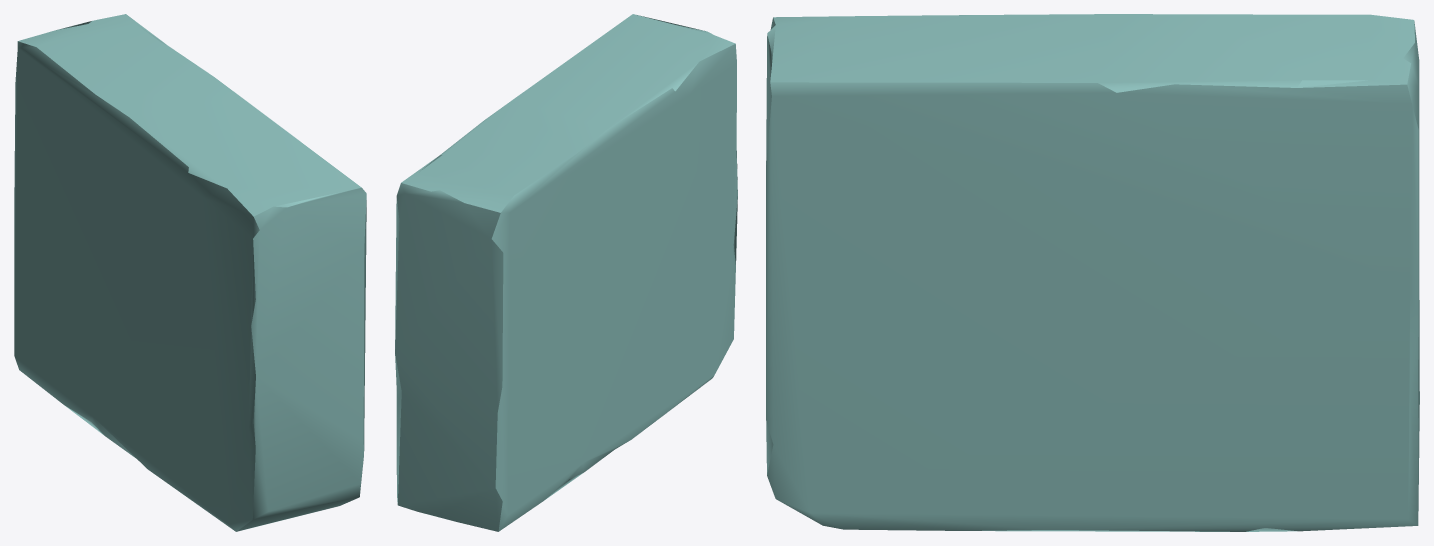
The model's file is stone_element_37e.fbx.
The picture shows the model from 3 angles, left to right: view 1: azimuth 30°, elevation 25°; view 2: azimuth 150°, elevation 25°; view 3: azimuth 270°, elevation 25°; orthographic projection. The views are drawn at different scales.
Visible parts, largest first — view 1: stone_element_37e; view 2: stone_element_37e; view 3: stone_element_37e.
Part boxes in pixels (bbox=[...]): stone_element_37e: bbox=[14, 14, 366, 531]; stone_element_37e: bbox=[395, 14, 737, 531]; stone_element_37e: bbox=[766, 14, 1419, 531].
Bounding box in the file's own units: 33.47 × 94.04 × 123.
